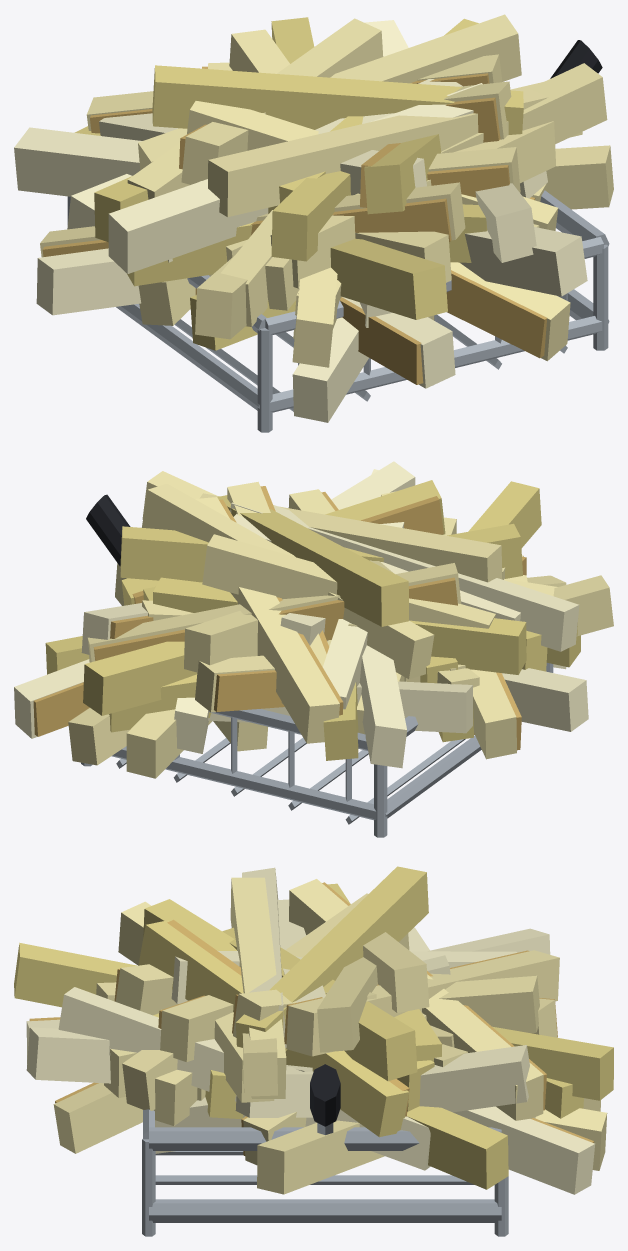
File: fries_raw.glb
3 views of the same model, one above another, from view 1: azimuth 30°, elevation 25°; view 2: azimuth 150°, elevation 25°; view 3: azimuth 270°, elevation 25° (orthographic). The views are drawn at different scales.
Parts seen in each view (by area): view 1: FriesRaw; view 2: FriesRaw; view 3: FriesRaw.
Boxes of the visible parts, x1,y1,x2,y2 form: FriesRaw: (14,14,613,432); FriesRaw: (14,461,613,837); FriesRaw: (14,866,613,1236).
Size of the model in its own units: 2.8 by 1.2 by 2.8.
